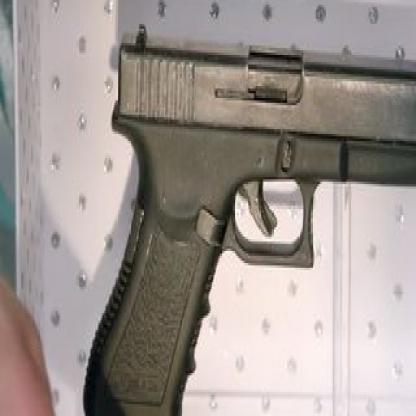gun: (88, 28, 415, 414)
